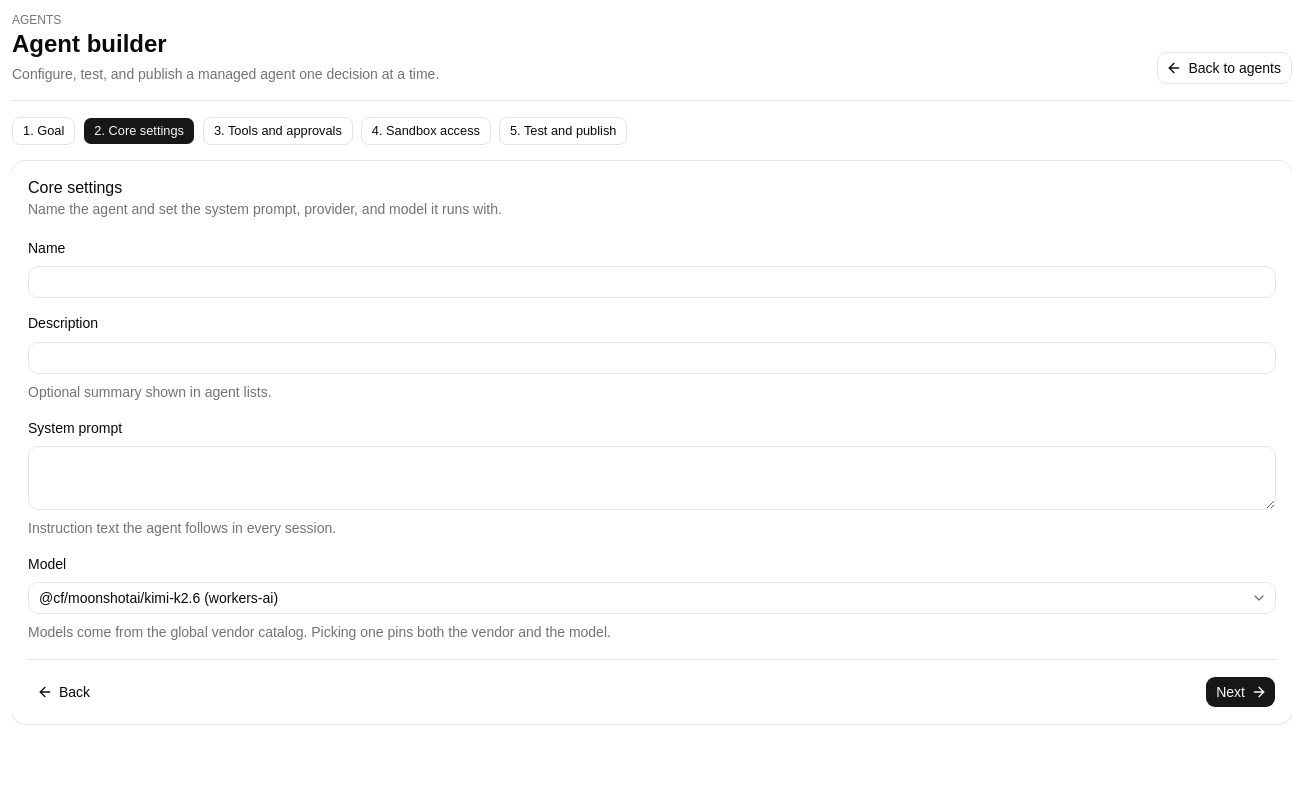
Test case: [spec: agents/builder] AgentBuilderPage › shows validation errors and stays on core step when Next is clicked with empty draft
Click the button "Next". click: click(1241, 692)
box: [1205, 676, 1276, 708]
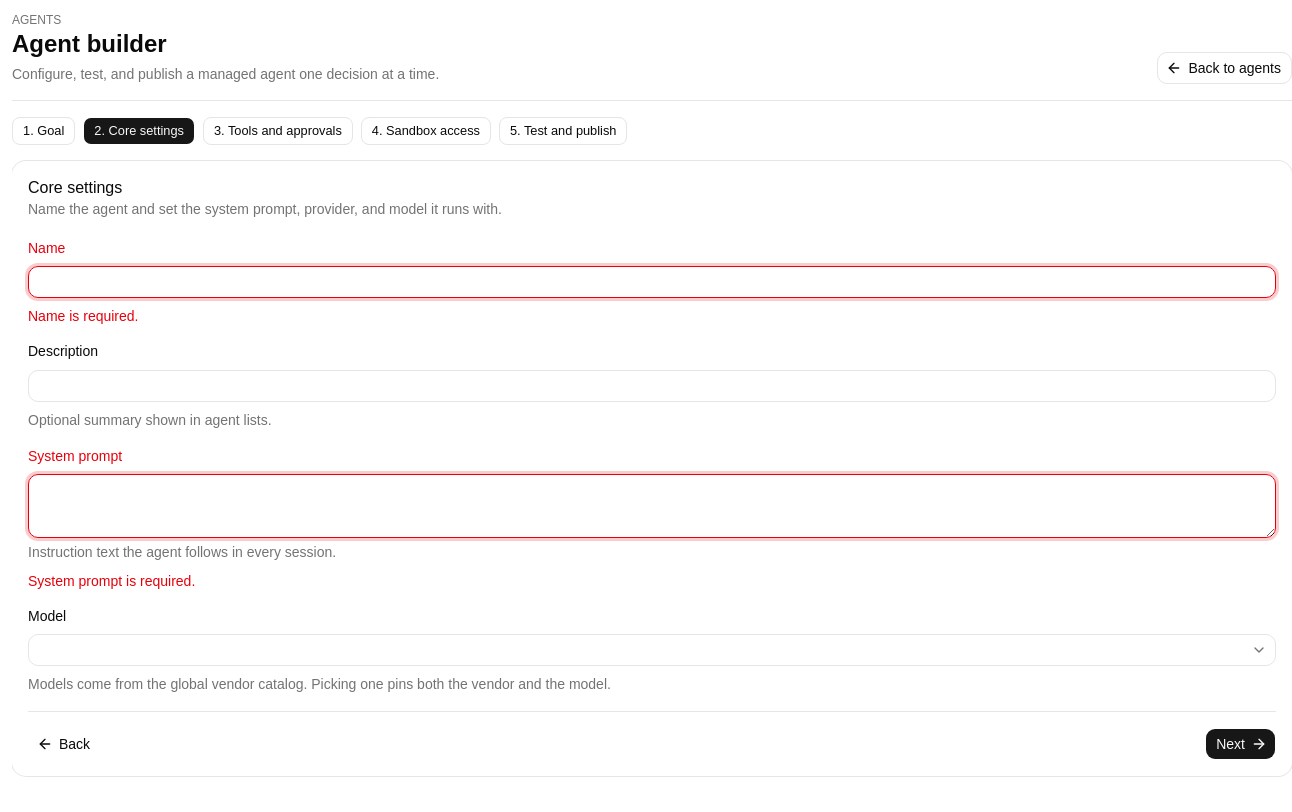
expect the text "Name is required." is shown: met, box [28, 308, 138, 324]
